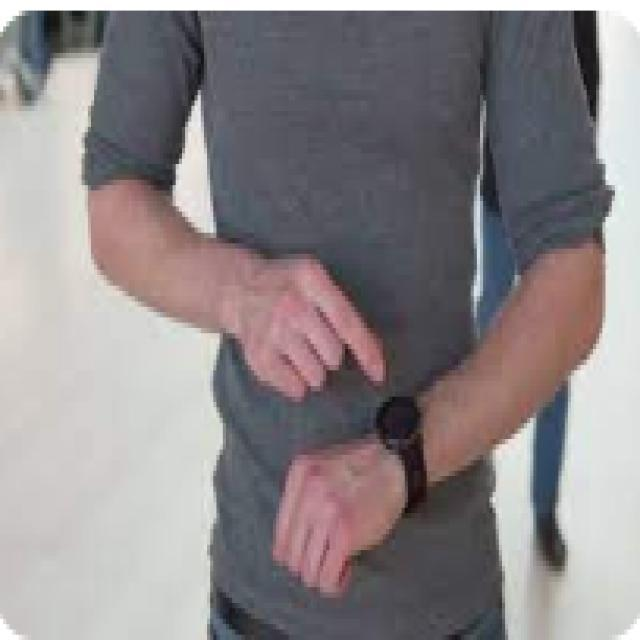Watch: (373, 388, 430, 506)
